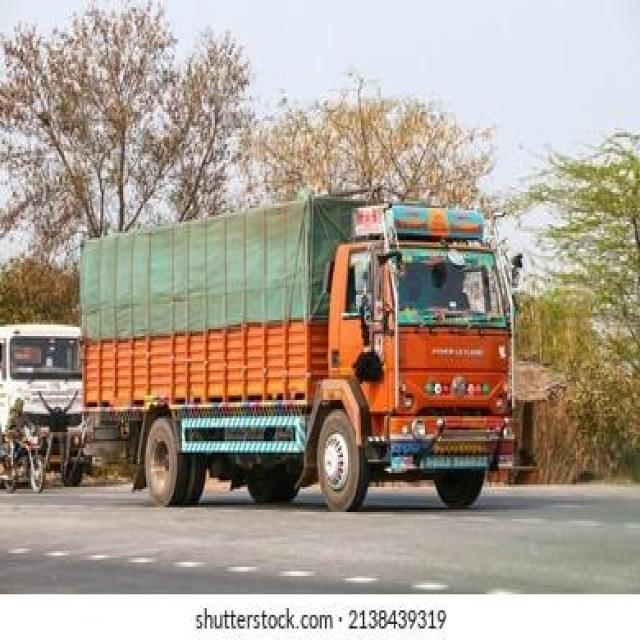Cycle: (3, 386, 59, 512)
Truck: (72, 173, 530, 516), (9, 239, 98, 480)
